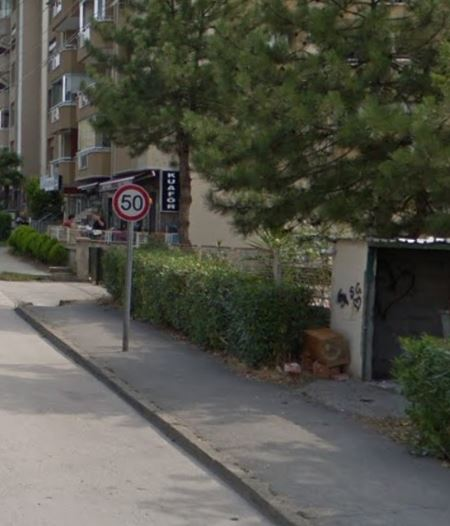50 Km Hiz Siniri: (111, 181, 147, 221)
